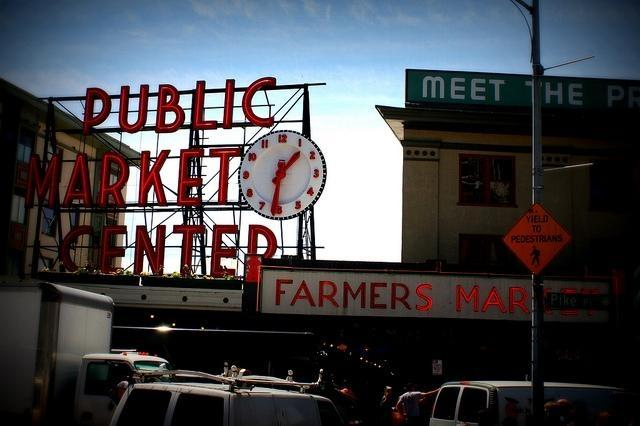car: (110, 384, 348, 426), (430, 377, 636, 421)
truck: (1, 283, 170, 421)
